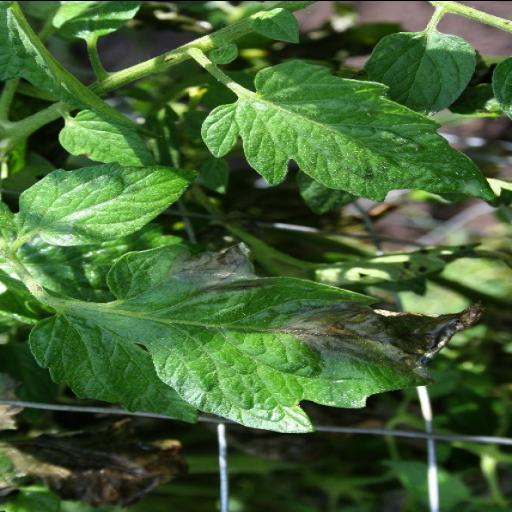disease_tomato: (28, 238, 484, 436)
